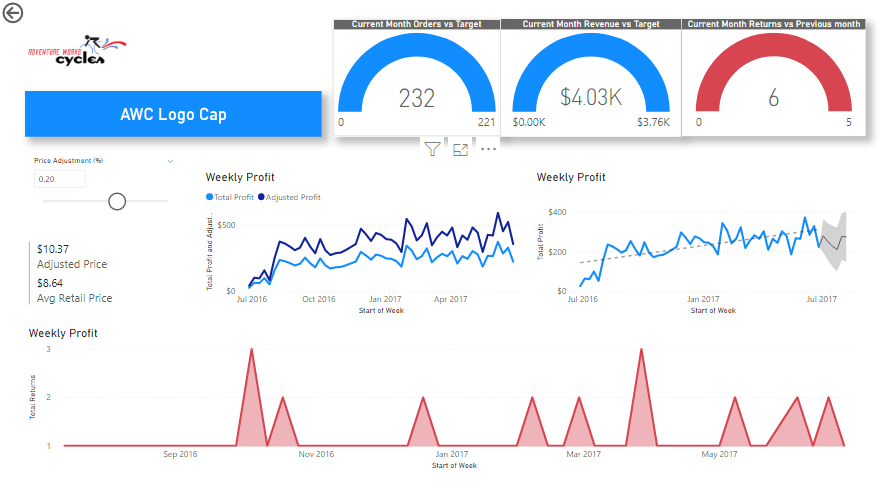

The page's visual inventory and layout, read from the dashboard file:
{"tool":"powerbi","page":{"name":"Product Detail","canvas":[1280,720],"ordinal":1},"visuals":[{"type":"image","box":[37.5,15.9,152.9,116.9],"z":0},{"type":"lineChart","title":"Weekly Profit","fields":{"Y":["AW_Sales.Total Profit"],"Category":["AW_Calender_Lookup.Start of Week"]},"box":[770.7,246.1,478.5,213.6],"z":1000},{"type":"areaChart","title":"Weekly Profit","fields":{"Category":["AW_Calender_Lookup.Start of Week"],"Y":["AW_Returns.Total Returns"]},"box":[37,472,1212.8,211.7],"z":2000},{"type":"gauge","title":"Current Month Orders vs Target","fields":{"Y":["AW_Sales.Total Orders"],"MaxValue":["AW_Sales.Order Target"]},"box":[482.1,28.6,241.9,169.7],"z":3000},{"type":"gauge","title":"Current Month Revenue vs Target","fields":{"MaxValue":["AW_Sales.Revenue Target"],"Y":["AW_Sales.Total Revenue_Measure"]},"box":[724,28.6,260.4,169.7],"z":4000},{"type":"gauge","title":"Current Month Returns vs Previous month","fields":{"Y":["AW_Returns.Total Returns"],"MaxValue":["AW_Returns.Prev Month Returns"]},"box":[985.5,28.9,265.5,168.8],"z":5000},{"type":"card","fields":{"Values":["Min(AW_Product_Lookup.ProductName)"]},"box":[37,132.7,428.3,65.5],"z":6000},{"type":"actionButton","box":[0,0,100,40],"z":7000},{"type":"slicer","fields":{"Values":["Price Adjustment (%).Price Adjustment (%)"]},"box":[37.6,222.2,227.3,123],"z":8000},{"type":"multiRowCard","fields":{"Values":["AW_Product_Lookup.Adjusted Price","AW_Product_Category_Lookup.Avg Retail Price"]},"box":[37.6,345.2,227.3,114.5],"z":9000},{"type":"lineChart","title":"Weekly Profit","fields":{"Y":["AW_Sales.Total Profit","AW_Sales.Adjusted Profit"],"Category":["AW_Calender_Lookup.Start of Week"]},"box":[292.2,246.1,478.5,213.6],"z":10000}]}

Visuals, with their boxes in screenshot pixels (x1, y1, x2, y2), scaled from the page's 1280x720 canvas onto the 886x497 screenshot:
image: [26,11,132,92]
"Weekly Profit" lineChart: [533,170,865,317]
"Weekly Profit" areaChart: [26,326,865,472]
"Current Month Orders vs Target" gauge: [334,20,501,137]
"Current Month Revenue vs Target" gauge: [501,20,681,137]
"Current Month Returns vs Previous month" gauge: [682,20,866,136]
card - Min(AW_Product_Lookup.ProductName): [26,92,322,137]
actionButton: [0,0,69,28]
slicer - Price Adjustment (%).Price Adjustment (%): [26,153,183,238]
multiRowCard - AW_Product_Lookup.Adjusted Price x AW_Product_Category_Lookup.Avg Retail Price: [26,238,183,317]
"Weekly Profit" lineChart: [202,170,533,317]
